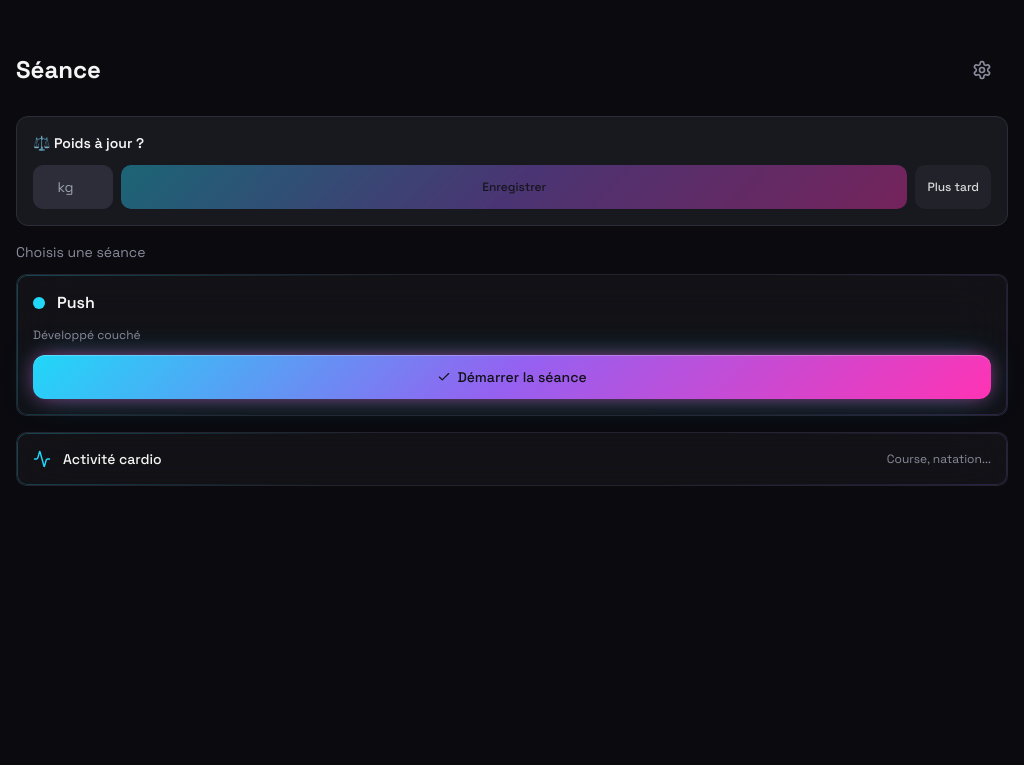
Test: WorkoutTab — démarrage de séance et validation de séries › valider une série la marque comme complétée et met à jour la progression rapportée au parent
This screenshot has width=1024, height=765.
Step 1. Click the button "Démarrer la séance" → (512, 377), box [33,355,991,399]
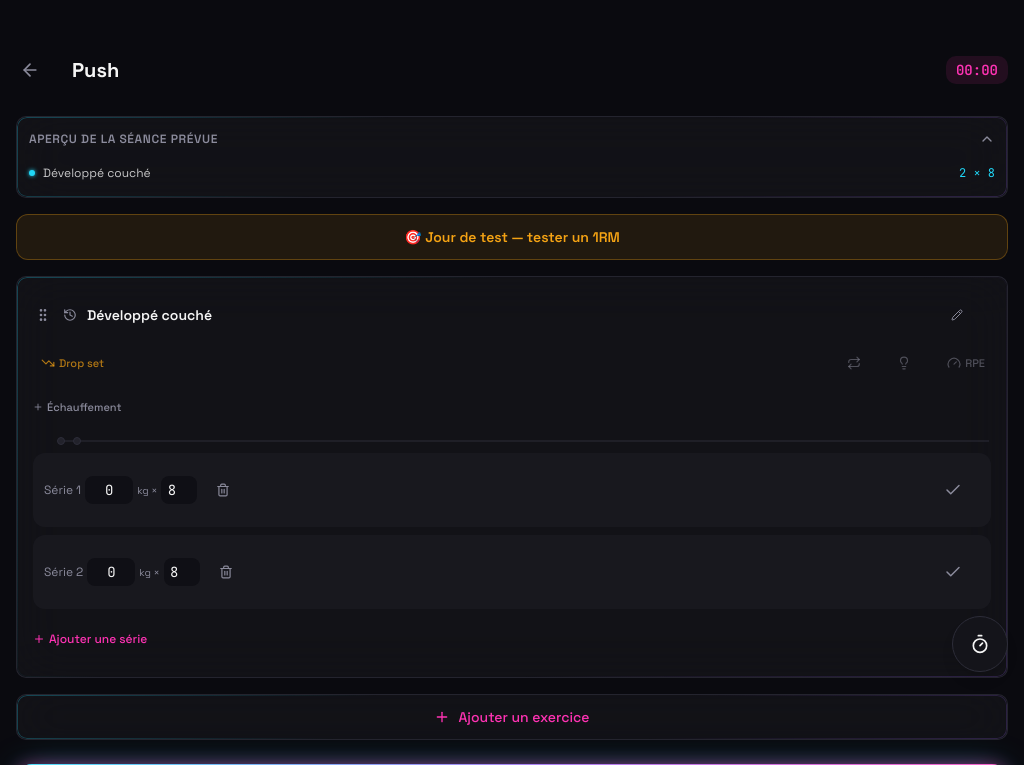
Step 2. Click the button named "Valider Série 1" → (958, 490), box [936,468,980,512]
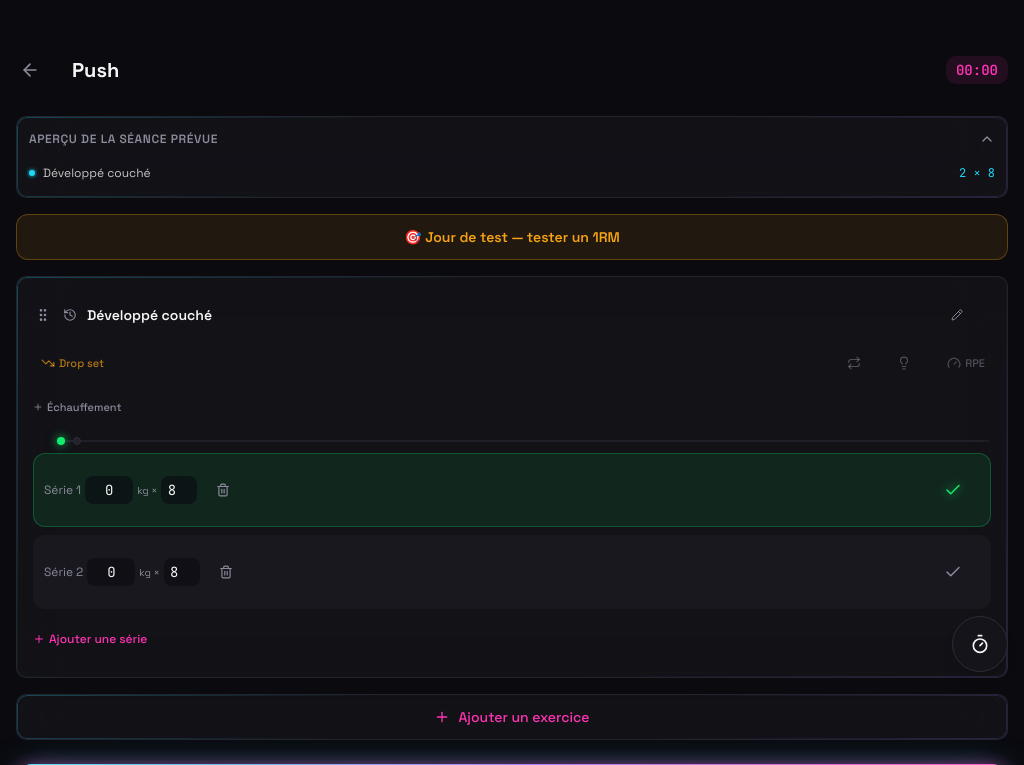
Expected: the button named "Série 1 validée" is pressed, [936,468,980,512]
